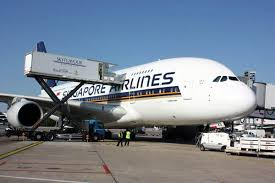Catering truck: (18, 43, 131, 144)
